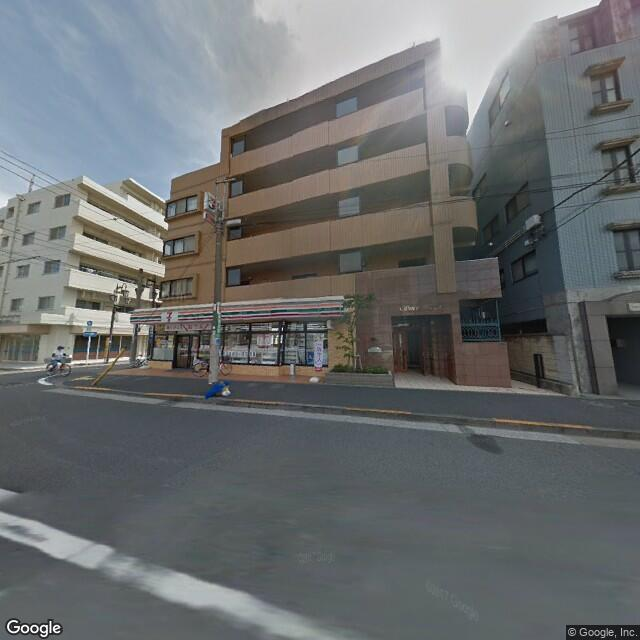7-eleven: (127, 296, 346, 324)
